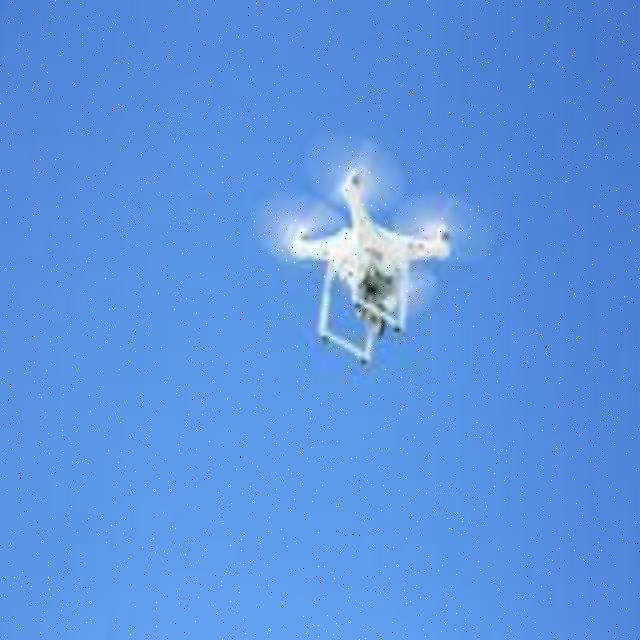UAV: (285, 160, 456, 372)
